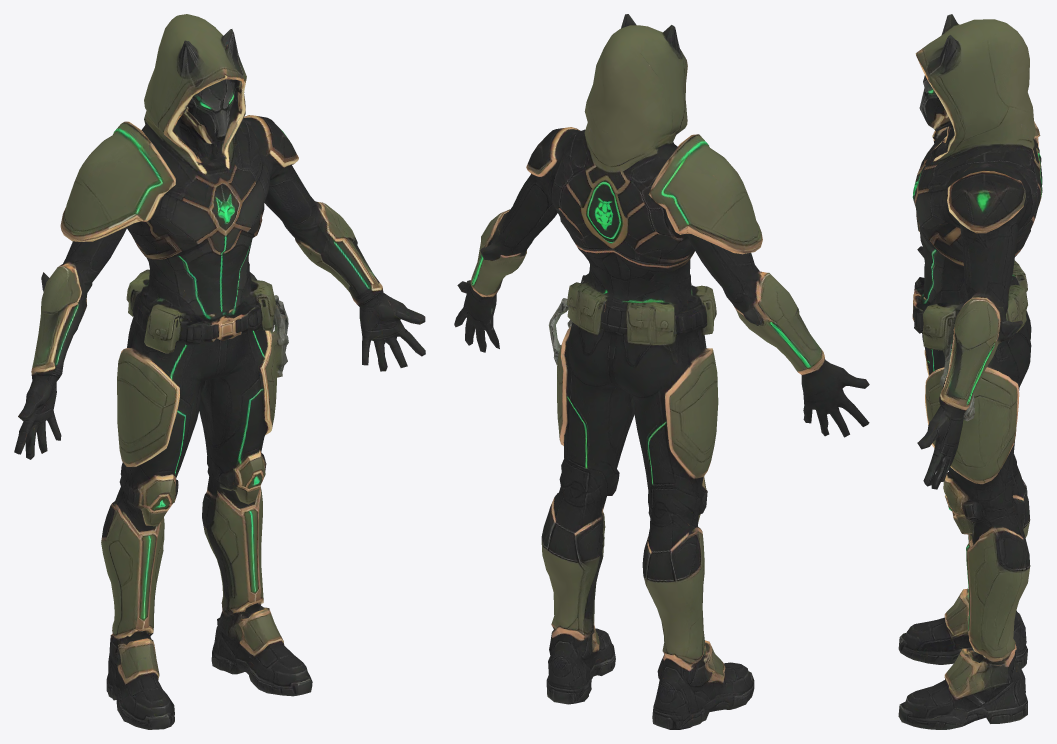
Rendered from wolf_sentinel_lod0.glb.
The picture shows the model from 3 angles, left to right: view 1: azimuth 30°, elevation 25°; view 2: azimuth 150°, elevation 25°; view 3: azimuth 270°, elevation 25°; orthographic projection.
Visible parts, largest first — view 1: Mesh_0; view 2: Mesh_0; view 3: Mesh_0.
Part boxes in pixels (x1=…): Mesh_0: x1=14, y1=14, x2=425, y2=729; Mesh_0: x1=454, y1=14, x2=869, y2=729; Mesh_0: x1=898, y1=14, x2=1042, y2=729.
Bounding box in the file's own units: 1.24 × 1.91 × 0.3745.
1 material, 1 textured.
